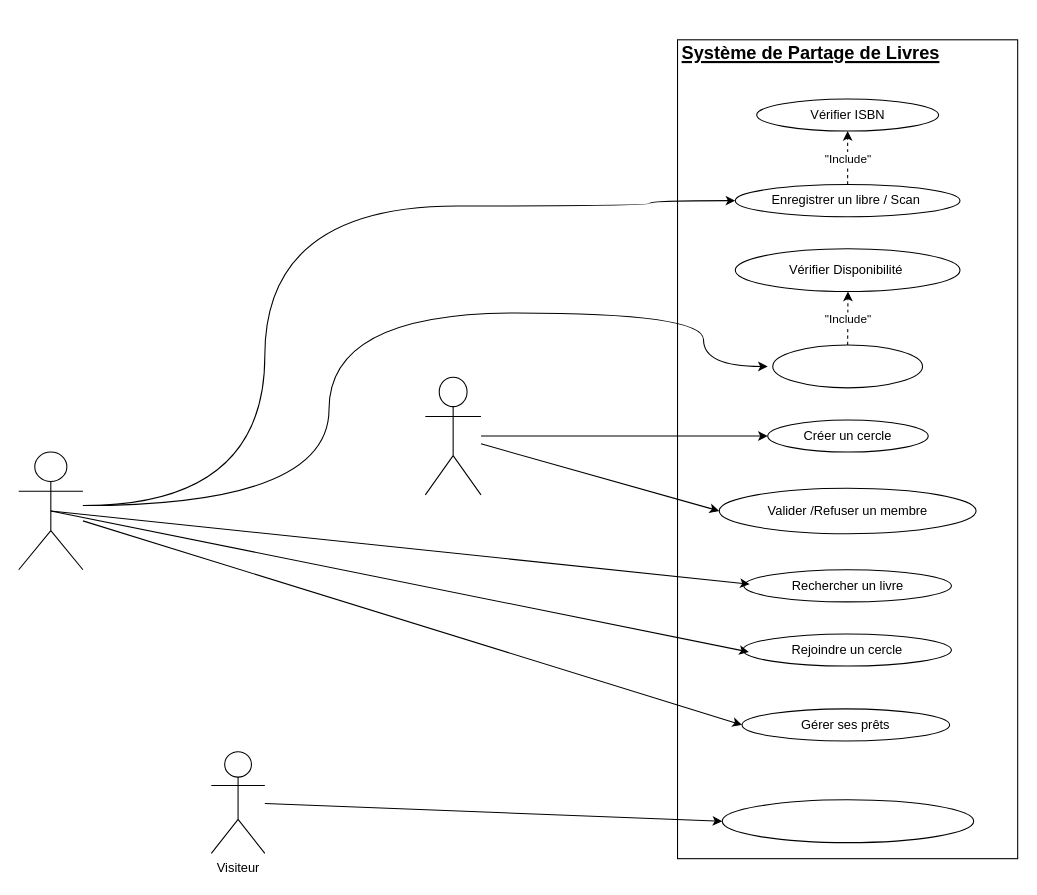
Some shapes in this 1037 by 895 pixel diagram are drawn without their labels. Here are the shapes that lost their labels. From the top down, the centre of each, then its label:
[847,366]: Emprunter un libre
[452,435]: Chef de Cercle
[50,510]: Adhérent
[847,821]: S'inscrire / Se connecter
